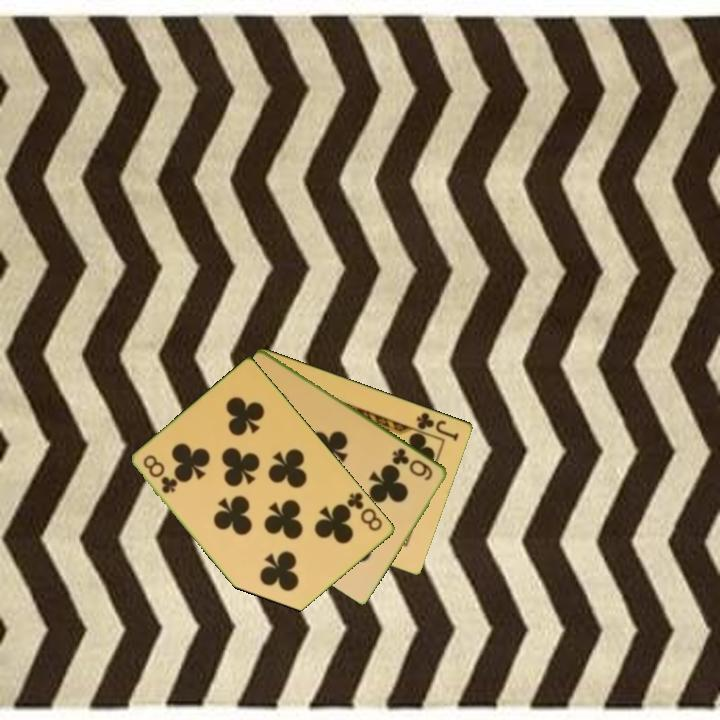6c: (389, 444, 436, 483)
8c: (344, 488, 386, 534), (140, 451, 181, 497)
Jc: (413, 408, 462, 444)
